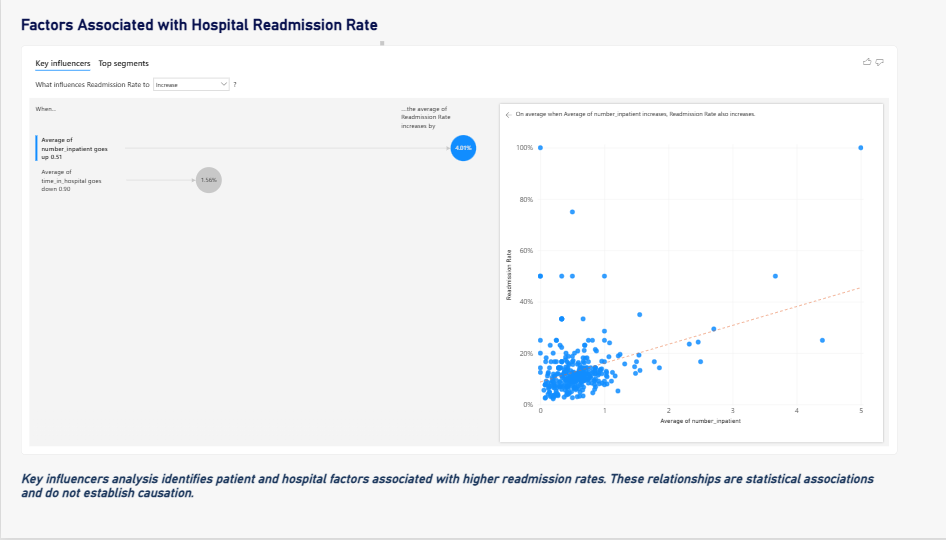

What the dashboard file says about the page in this screenshot:
{"tool":"powerbi","page":{"name":"Page 2","canvas":[1920,1080],"ordinal":1},"visuals":[{"type":"textbox","title":"Factors Associated with Hospital Readmission Rate","box":[40,34,726,62],"z":0},{"type":"keyDriversVisual","fields":{"ExplainBy":["diabetic_data.gender","Avg(diabetic_data.number_diagnoses)","Avg(diabetic_data.time_in_hospital)","Avg(diabetic_data.number_inpatient)","diabetic_data.race","diabetic_data.admission_type_id","diabetic_data.age"],"Target":["diabetic_data.Readmission Rate"]},"box":[40.1,95.9,1753.2,818.6],"z":1000},{"type":"textbox","title":"Key influencers analysis identifies patient and hospital factors associated with higher readmission rates. These relationships are statistical associations and do not establish causation.","box":[40.1,948,1733.1,131.6],"z":1001}]}

Visuals, with their boxes in screenshot pixels (x1, y1, x2, y2), scaled from the page's 1920x1080 canvas onto the 946x540 screenshot:
"Factors Associated with Hospital Readmission Rate" textbox: bbox=(20, 17, 377, 48)
keyDriversVisual - diabetic_data.gender x Avg(diabetic_data.number_diagnoses): bbox=(20, 48, 884, 457)
"Key influencers analysis identifies patient and hospital factors associated with higher readmission rates. These relationships are statistical associations and do not establish causation." textbox: bbox=(20, 474, 874, 539)
